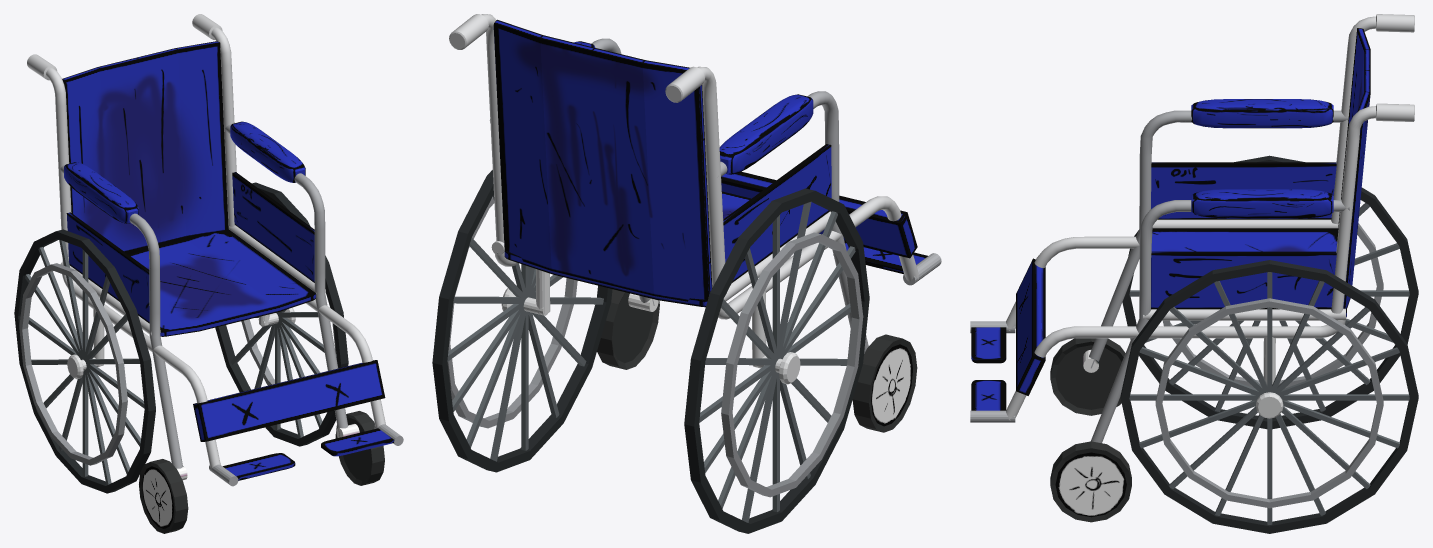
The model's file is SM_Wheelchair.fbx.
The picture shows the model from 3 angles, left to right: view 1: azimuth 30°, elevation 25°; view 2: azimuth 150°, elevation 25°; view 3: azimuth 270°, elevation 25°; orthographic projection. The views are drawn at different scales.
Visible parts, largest first — view 1: SM_Wheelchair; view 2: SM_Wheelchair; view 3: SM_Wheelchair.
Boxes of the visible parts, bbox=[...] form: SM_Wheelchair: bbox=[14, 14, 403, 533]; SM_Wheelchair: bbox=[432, 14, 941, 533]; SM_Wheelchair: bbox=[970, 14, 1418, 533].
Size of the model in its own units: 96.93 by 158 by 153.
